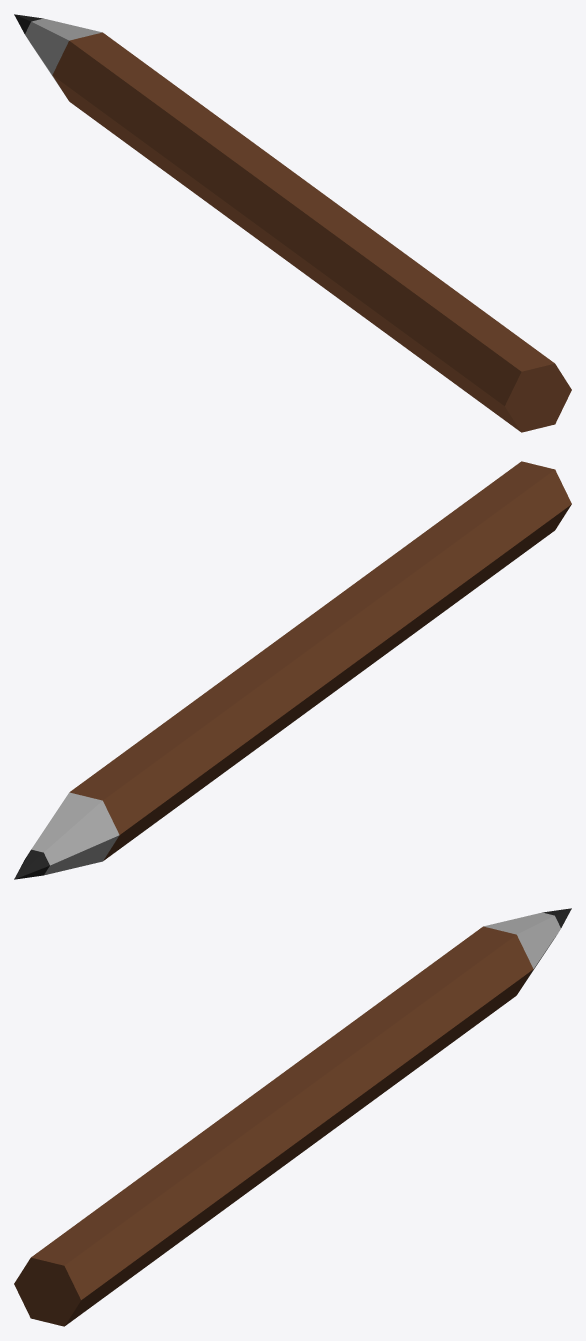
File: pencil01.obj
3 renders of one model, top to bottom at view 1: azimuth 30°, elevation 25°; view 2: azimuth 150°, elevation 25°; view 3: azimuth 330°, elevation 25°, orthographic.
Parts seen in each view (by area): view 1: Cylinder; view 2: Cylinder; view 3: Cylinder.
Boxes of the visible parts, x1,y1,x2,y2 form: Cylinder: (14, 14, 571, 432); Cylinder: (14, 461, 571, 879); Cylinder: (14, 908, 571, 1326).
Size of the model in its own units: 0.00986 by 0.00854 by 0.1332.
